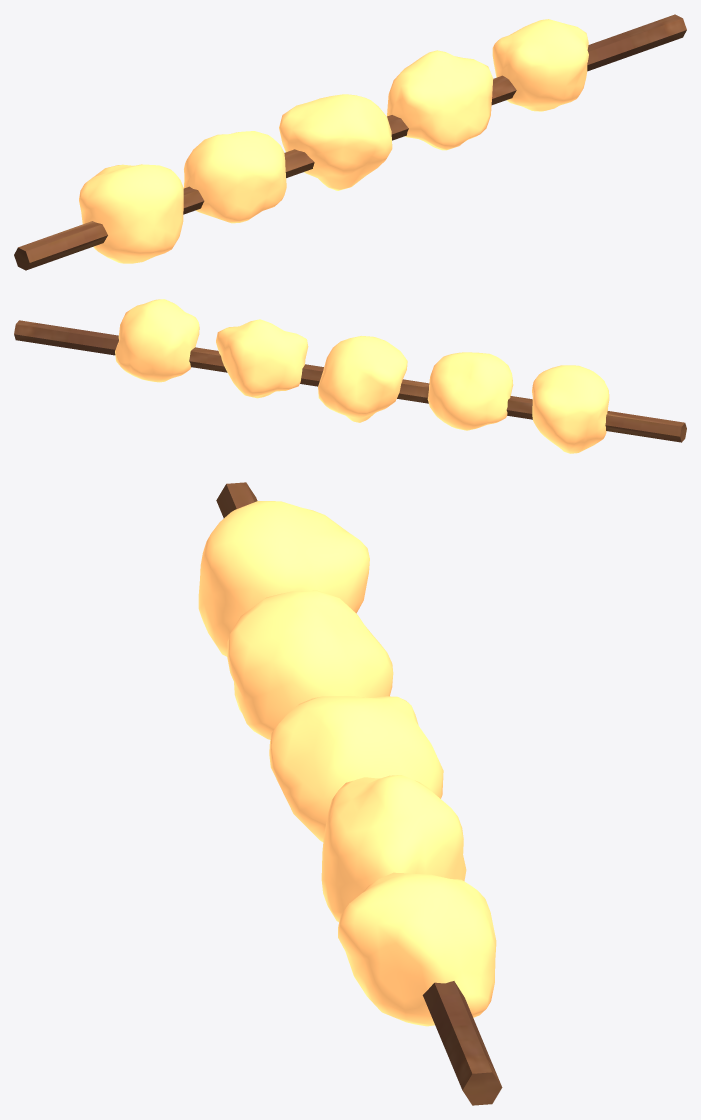
The model's file is dish_ember_skewer.glb.
3 renders of one model, top to bottom at view 1: azimuth 30°, elevation 25°; view 2: azimuth 150°, elevation 25°; view 3: azimuth 270°, elevation 25°, orthographic. The views are drawn at different scales.
Visible parts, largest first — view 1: model; view 2: model; view 3: model.
Boxes of the visible parts, x1,y1,x2,y2 form: model: (14,14,686,270); model: (14,299,686,453); model: (198,482,502,1105).
Size of the model in its own units: 0.4157 by 0.0565 by 0.09.
2 materials, 1 textured.
